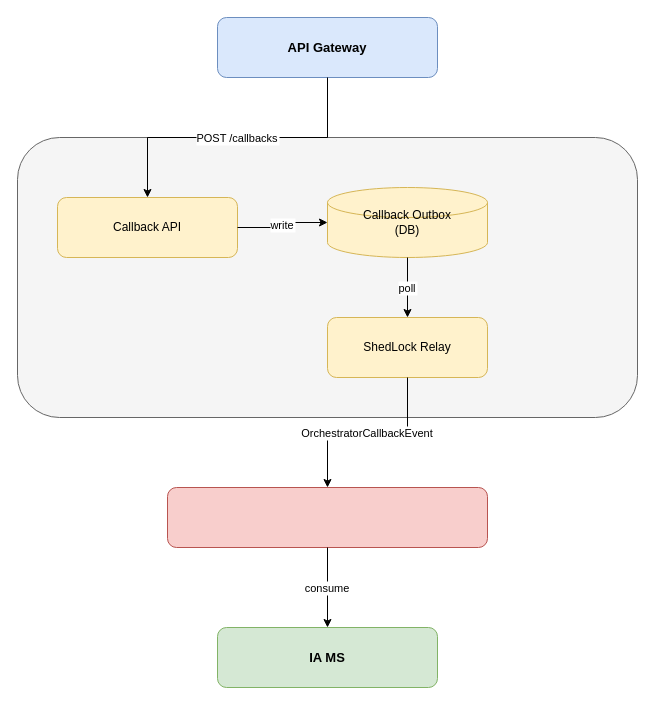
Image size: 655x705. Some labels were removed from this diagram. The shapes that lost their labels are listed below. From the top down, each one's box as (x1, y1, x2, y2) in pixels, then its label:
(16, 136, 638, 418): Intent Callback MS
(166, 486, 488, 548): t7.intent.management.events.callbacks (Kafka Topic)
